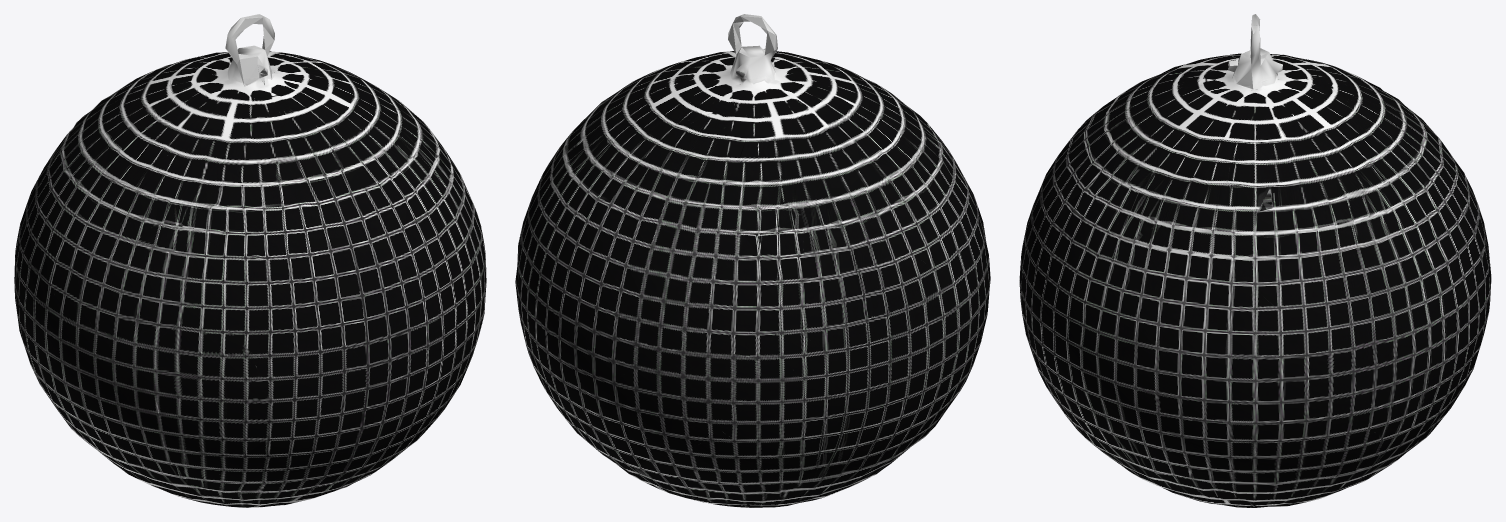
File: BouleFacettes.fbx
3 renders of one model, left to right at view 1: azimuth 30°, elevation 25°; view 2: azimuth 150°, elevation 25°; view 3: azimuth 270°, elevation 25°, orthographic.
Parts seen in each view (by area): view 1: Mesh_0; view 2: Mesh_0; view 3: Mesh_0.
Boxes of the visible parts, x1=… form: Mesh_0: x1=14, y1=14, x2=486, y2=507; Mesh_0: x1=515, y1=14, x2=990, y2=507; Mesh_0: x1=1019, y1=14, x2=1491, y2=507.
Size of the model in its own units: 174 by 189 by 174.
Materials: 1 (1 with a texture image).
